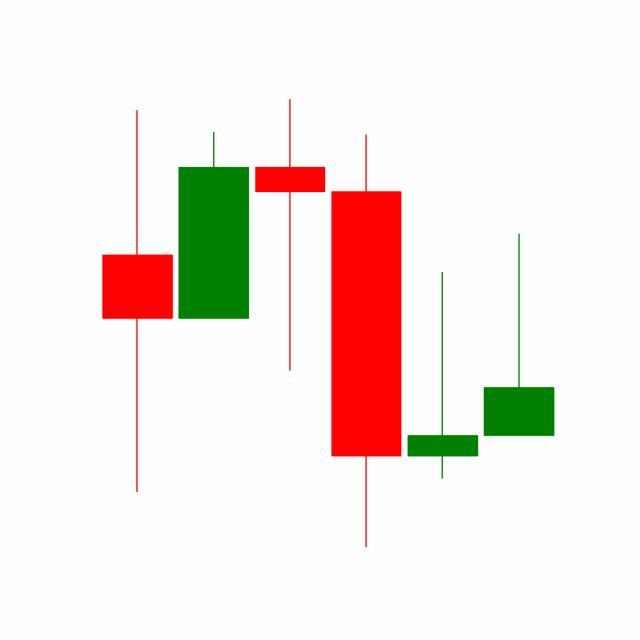Gravestone Doji: (404, 270, 482, 482)
